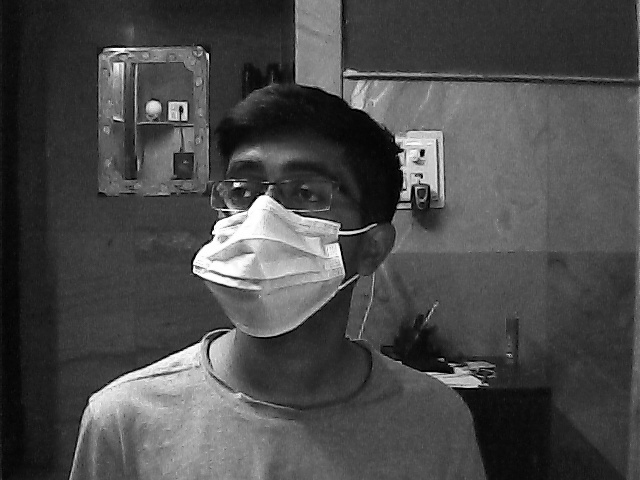mask: (204, 148, 364, 343)
